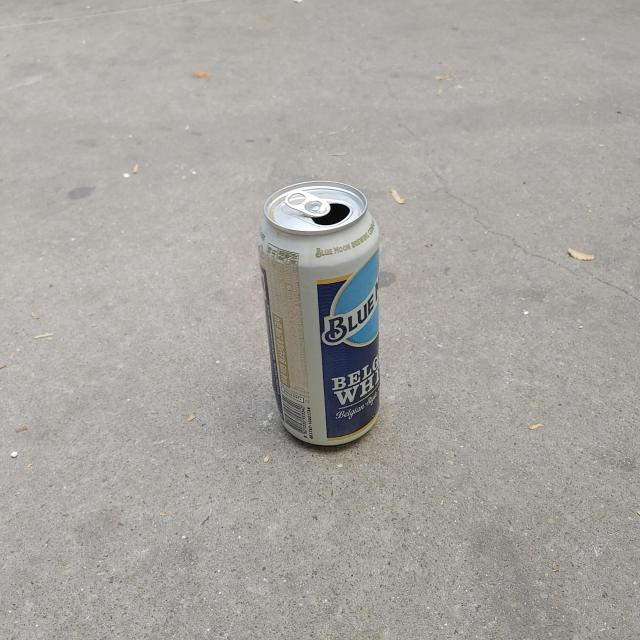can: (258, 181, 380, 446)
